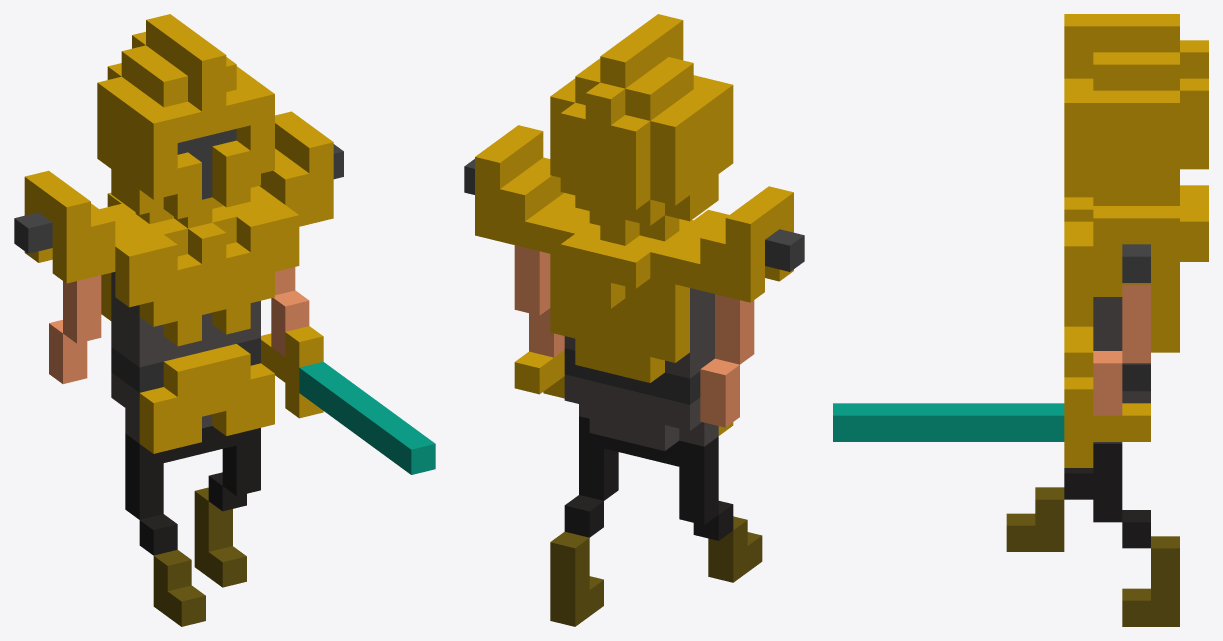
File: SwingingGoldKnightChar-4.obj
3 views of the same model, side by side, from view 1: azimuth 30°, elevation 25°; view 2: azimuth 150°, elevation 25°; view 3: azimuth 270°, elevation 25° (orthographic). The views are drawn at different scales.
Visible parts, largest first — view 1: SwingingGoldKnightChar-4; view 2: SwingingGoldKnightChar-4; view 3: SwingingGoldKnightChar-4.
Boxes of the visible parts, bbox=[...] form: SwingingGoldKnightChar-4: bbox=[14, 14, 435, 626]; SwingingGoldKnightChar-4: bbox=[464, 14, 804, 626]; SwingingGoldKnightChar-4: bbox=[833, 14, 1208, 626].
Size of the model in its own units: 13 by 22 by 13.
1 material, 1 textured.
